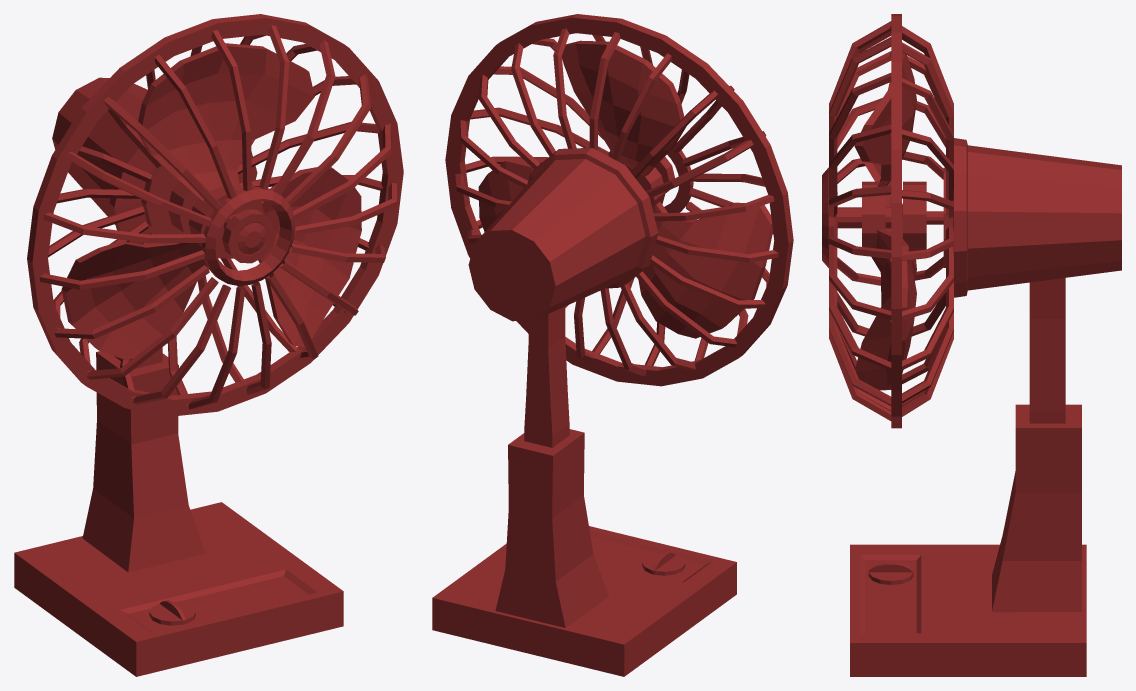
Rendered from Fan.FBX.
3 views of the same model, side by side, from view 1: azimuth 30°, elevation 25°; view 2: azimuth 150°, elevation 25°; view 3: azimuth 270°, elevation 25° (orthographic). The views are drawn at different scales.
Visible parts, largest first — view 1: fan_1, fan_wing; view 2: fan_1, fan_wing; view 3: fan_1, fan_wing.
Part boxes in pixels (box(x1,y1,x2,y2)): fan_1: box(14, 14, 403, 676); fan_wing: box(61, 43, 361, 360); fan_1: box(432, 14, 793, 676); fan_wing: box(478, 40, 772, 338); fan_1: box(822, 14, 1121, 676); fan_wing: box(854, 52, 916, 390).
Size of the model in its own units: 40.86 by 64.48 by 29.45.
